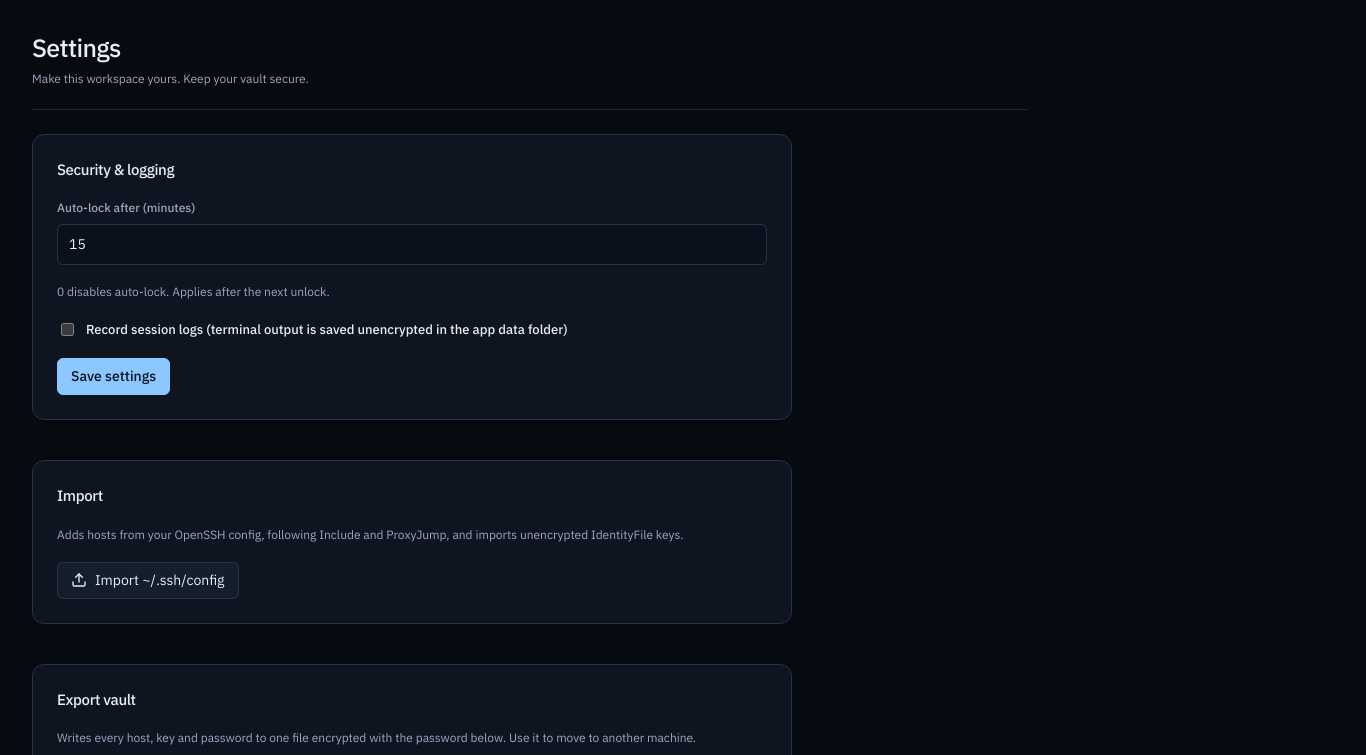
Test case: imports ~/.ssh/config and shows the summary
What coordinates should you click on to do the following:
click the button "Import ~/.ssh/config"
I would click on:
 (148, 580)
Its box is 57,562 -> 238,598.
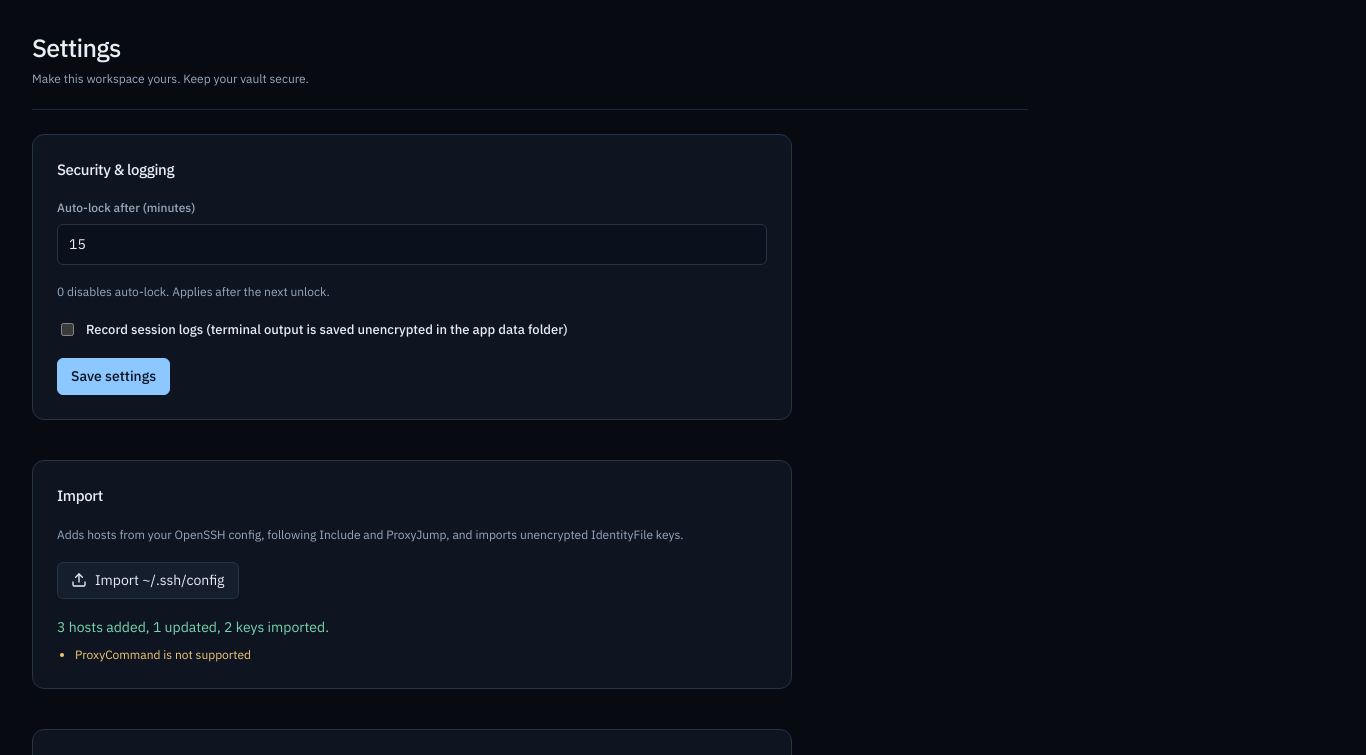
Expected: the message shows "3 hosts added, 1 updated, 2 keys imported", 57,618 -> 329,662
Expected: the message shows "ProxyCommand is not supported", 75,646 -> 251,662
